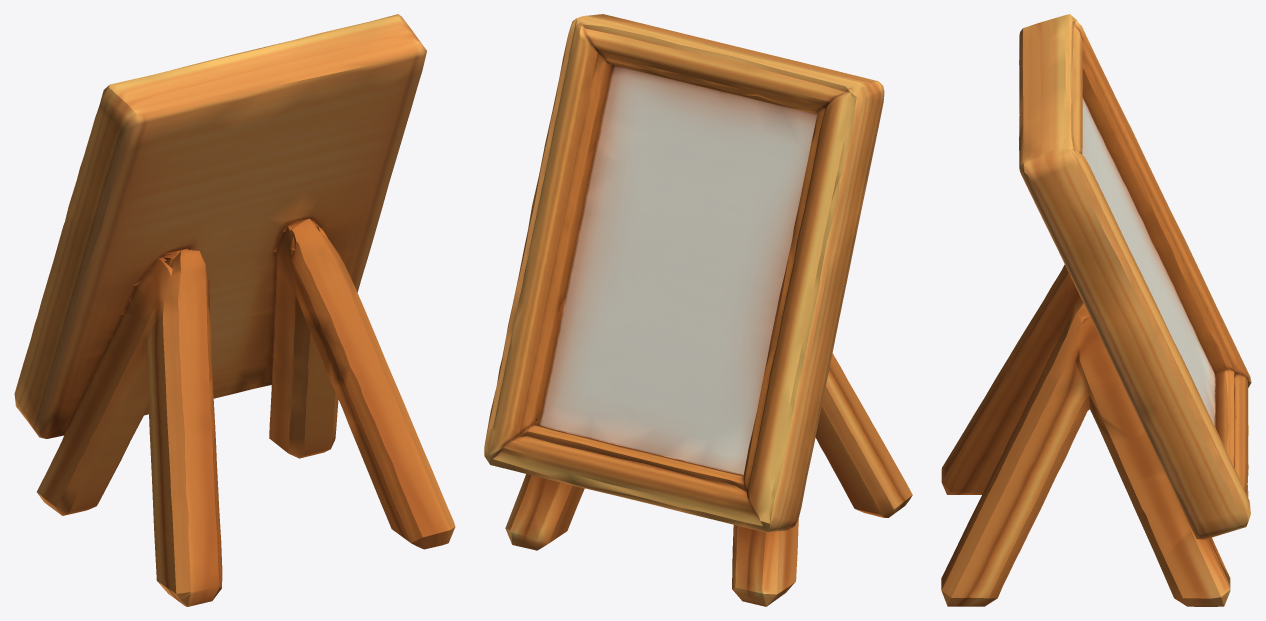
The model's file is PhotoFrame.glb.
3 renders of one model, left to right at view 1: azimuth 30°, elevation 25°; view 2: azimuth 150°, elevation 25°; view 3: azimuth 270°, elevation 25°, orthographic. The views are drawn at different scales.
Parts seen in each view (by area): view 1: geometry_0; view 2: geometry_0; view 3: geometry_0.
Part boxes in pixels (box(x1,y1,x2,y2)): geometry_0: box(14, 14, 455, 606); geometry_0: box(484, 14, 912, 606); geometry_0: box(941, 14, 1251, 606).
Bounding box in the file's own units: 0.1446 × 0.22 × 0.1331.
1 material, 1 textured.
